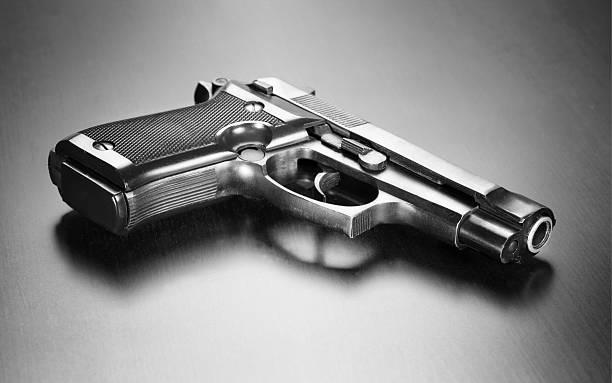weapon: (41, 62, 565, 281)
